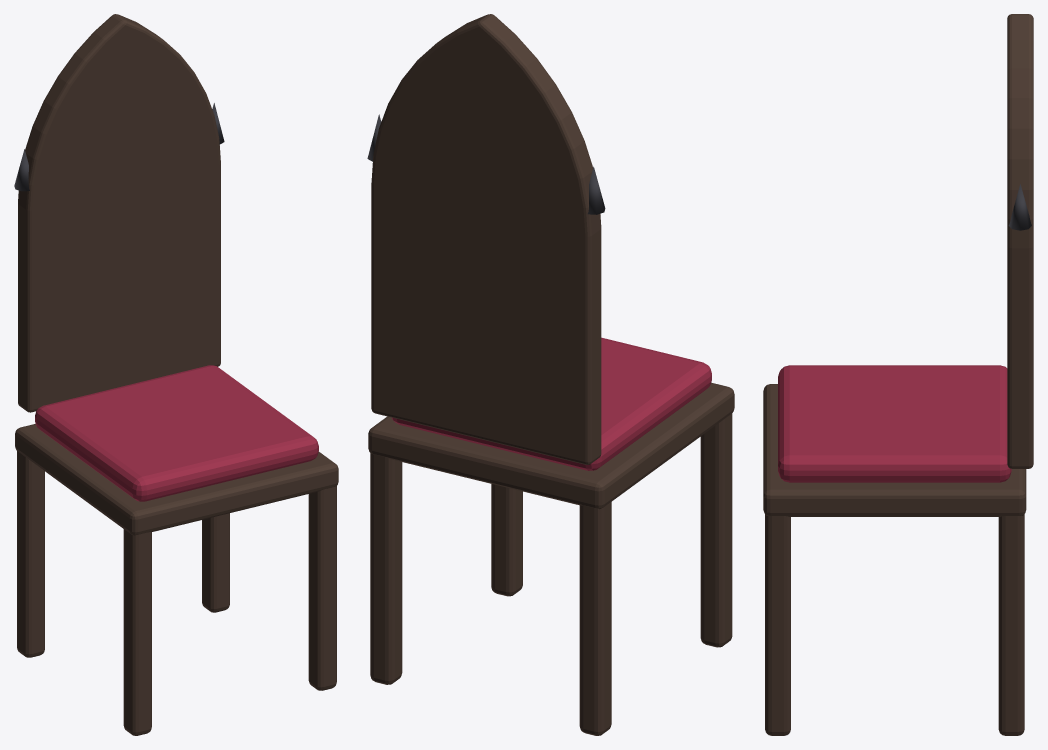
File: chair.glb
3 renders of one model, left to right at view 1: azimuth 30°, elevation 25°; view 2: azimuth 150°, elevation 25°; view 3: azimuth 270°, elevation 25°, orthographic. The views are drawn at different scales.
Visible parts, largest first — view 1: GD_chair; view 2: GD_chair; view 3: GD_chair.
Part boxes in pixels (<box>): GD_chair: <box>14,14,338,735</box>; GD_chair: <box>367,14,734,735</box>; GD_chair: <box>763,14,1033,735</box>.
Bounding box in the file's own units: 0.45 × 1.26 × 0.4625.
